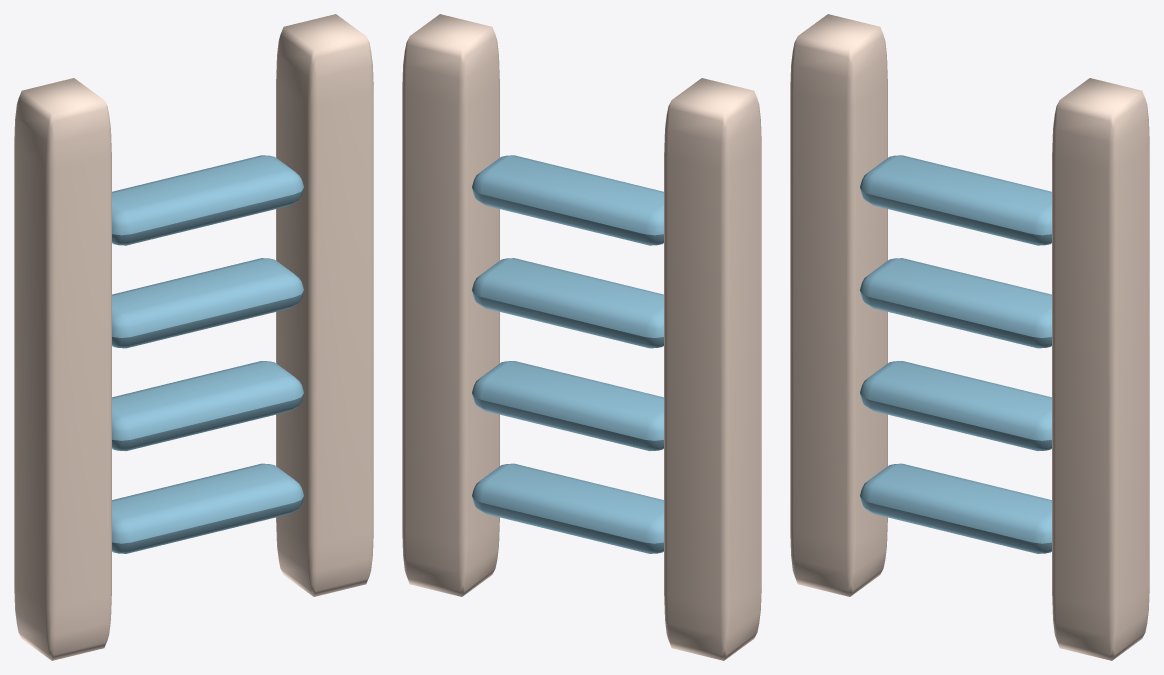
File: Props_Conveyor_Blue_Holder_03.fbx
3 renders of one model, left to right at view 1: azimuth 30°, elevation 25°; view 2: azimuth 150°, elevation 25°; view 3: azimuth 330°, elevation 25°, orthographic.
Parts seen in each view (by area): view 1: Props_Conveyor_Blue_Holder_03; view 2: Props_Conveyor_Blue_Holder_03; view 3: Props_Conveyor_Blue_Holder_03.
Part boxes in pixels (x1,y1,x2,y2): Props_Conveyor_Blue_Holder_03: (14,14,373,660); Props_Conveyor_Blue_Holder_03: (402,14,761,660); Props_Conveyor_Blue_Holder_03: (790,14,1149,660).
Bounding box in the file's own units: 50 × 80 × 10.
